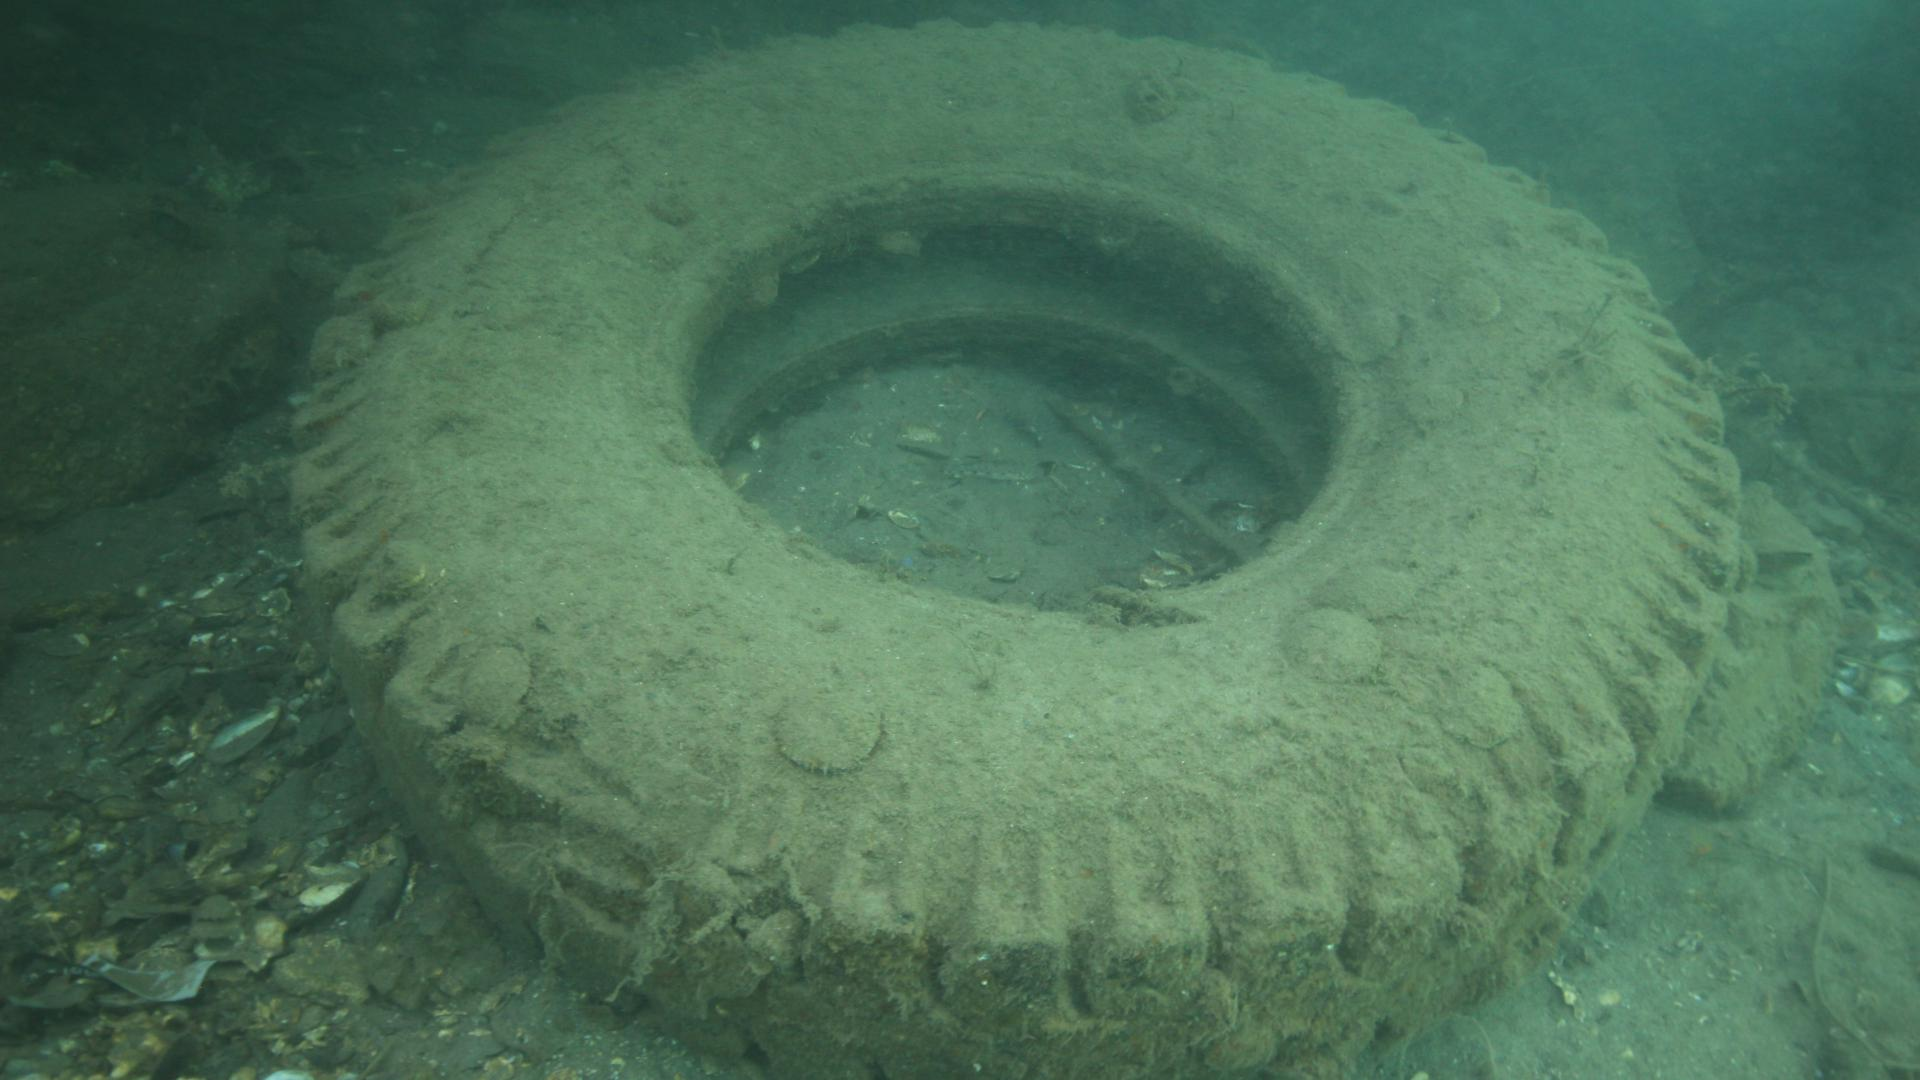tire: (284, 16, 1745, 1080)
